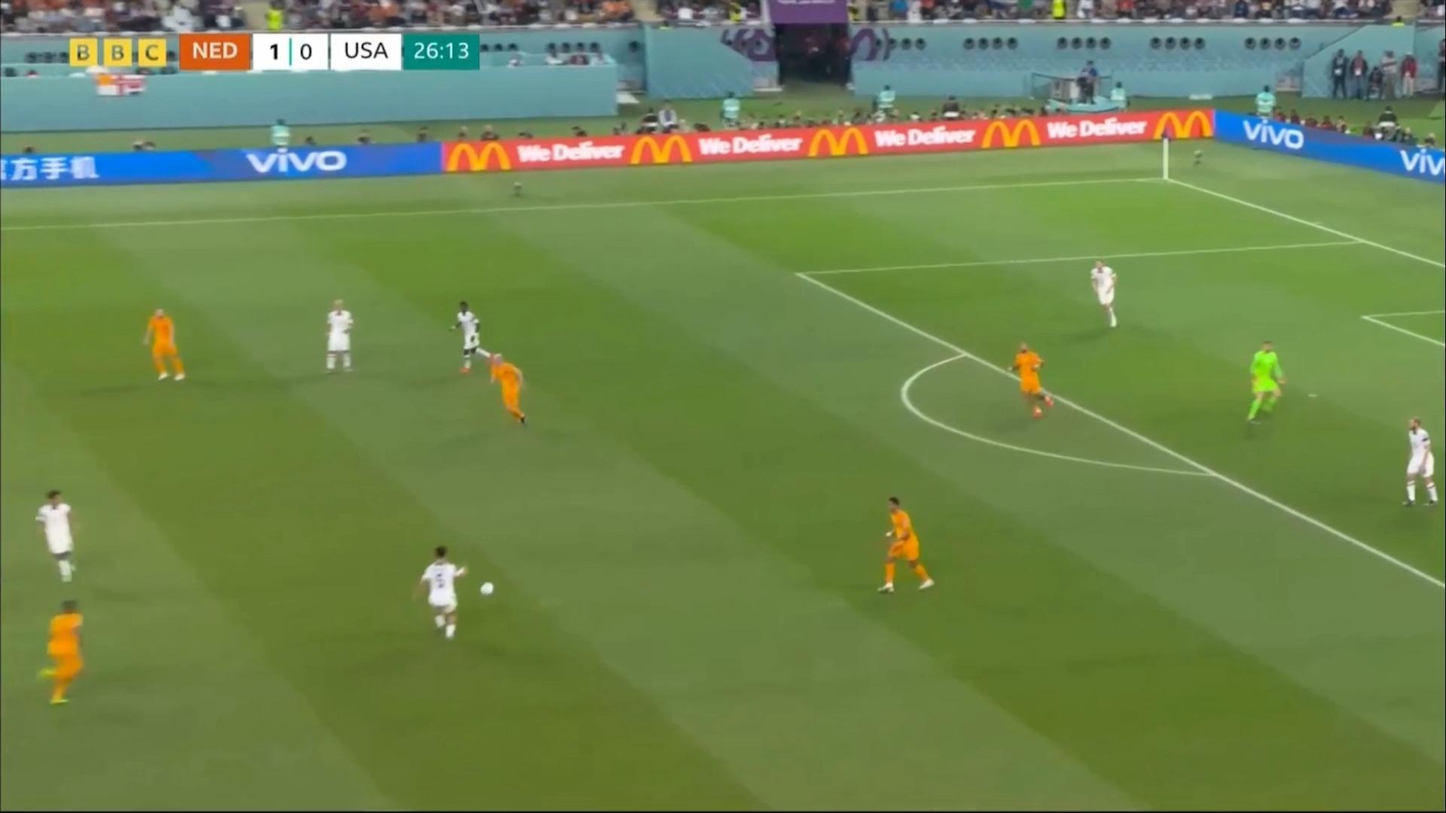Ball: (477, 580, 498, 599)
Player: (35, 598, 98, 711), (874, 494, 934, 594), (412, 545, 470, 647), (31, 486, 85, 591), (1397, 417, 1445, 512), (138, 301, 190, 387), (444, 298, 504, 372), (316, 295, 366, 380), (484, 351, 536, 431), (1009, 337, 1058, 421), (1246, 340, 1287, 423), (1087, 253, 1126, 334)
